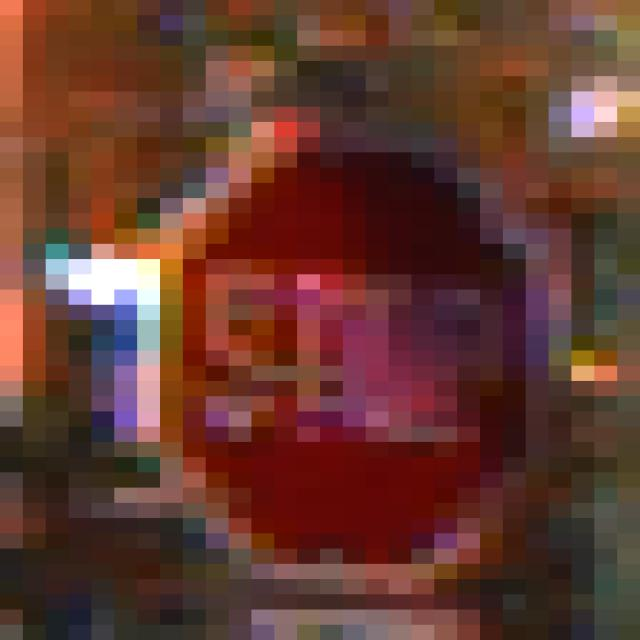STOP: (115, 92, 527, 565)
